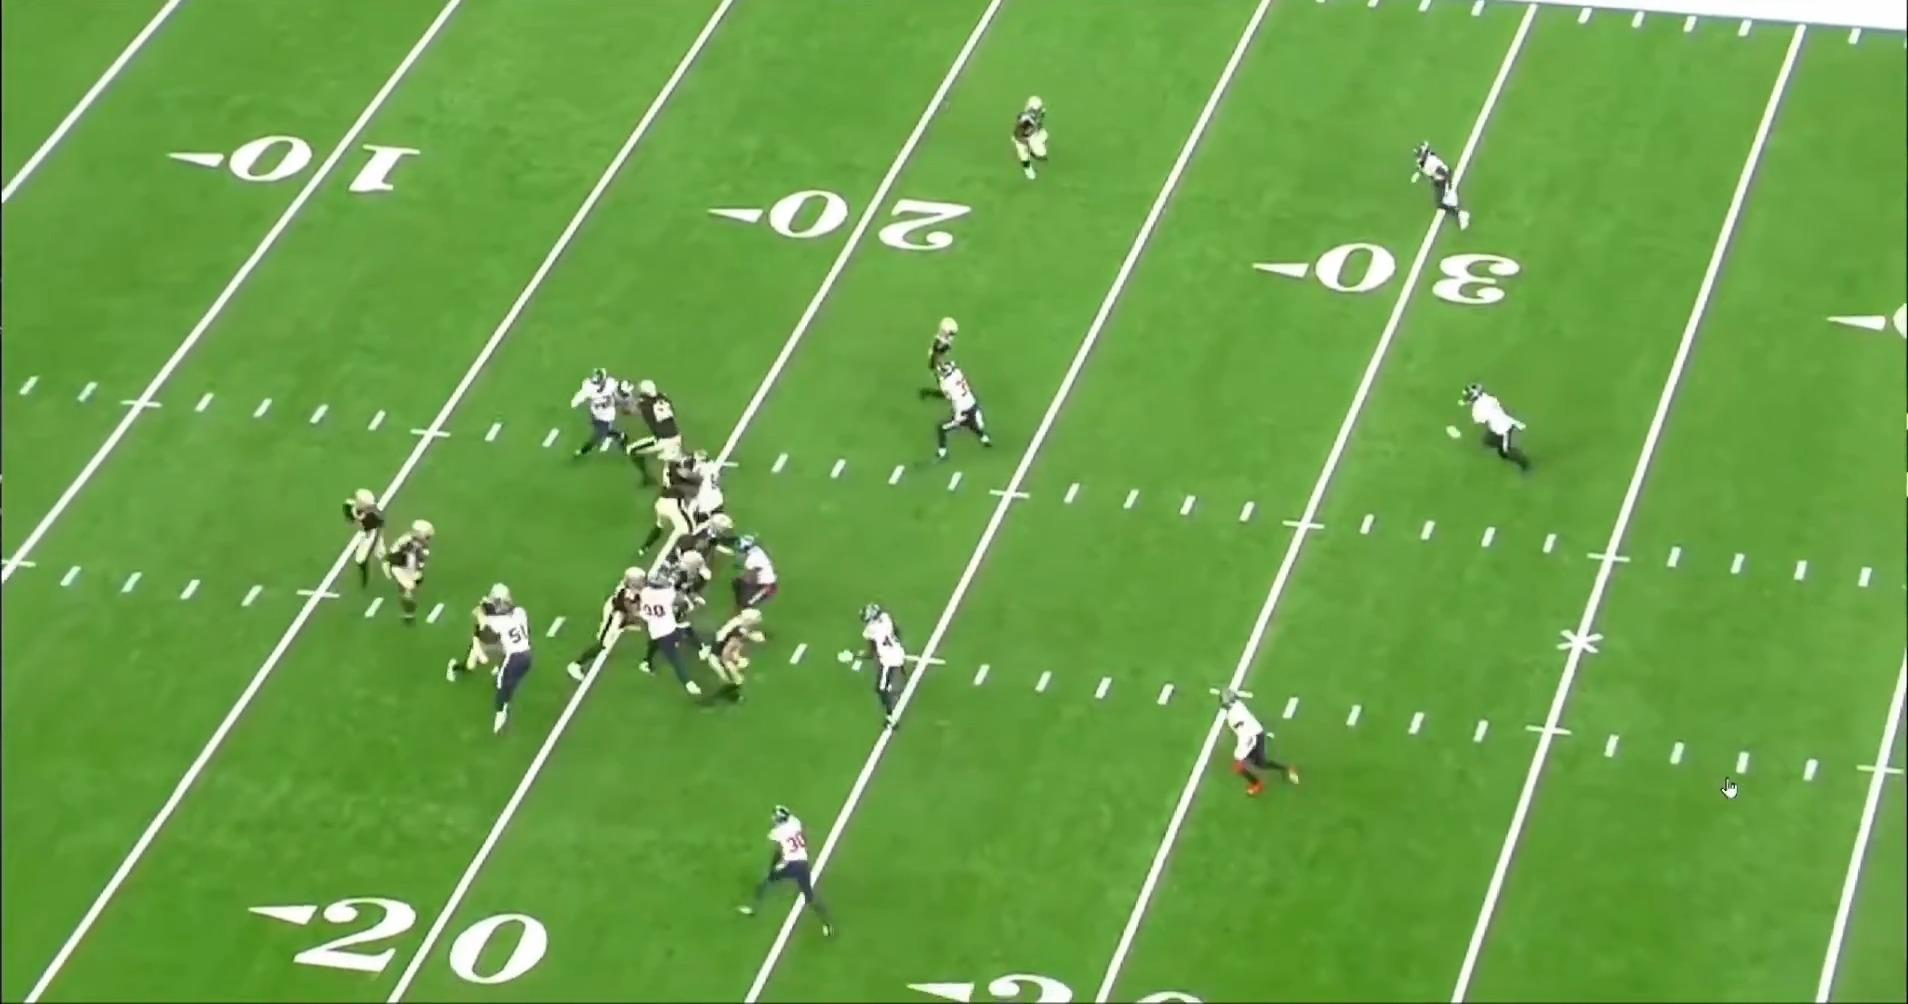defense: (734, 805, 840, 942), (1216, 690, 1302, 805), (635, 576, 705, 700), (482, 603, 544, 739), (921, 353, 994, 464), (849, 600, 909, 737), (1460, 385, 1537, 486), (568, 367, 635, 467), (1406, 144, 1471, 238), (724, 534, 787, 624), (664, 444, 736, 522)
oline: (564, 566, 652, 686), (630, 455, 710, 561), (437, 583, 514, 691), (621, 380, 689, 493), (674, 510, 745, 612)
qb: (341, 484, 395, 589)
skill: (702, 608, 766, 718), (380, 515, 438, 624), (926, 313, 975, 410), (1010, 95, 1057, 185)
